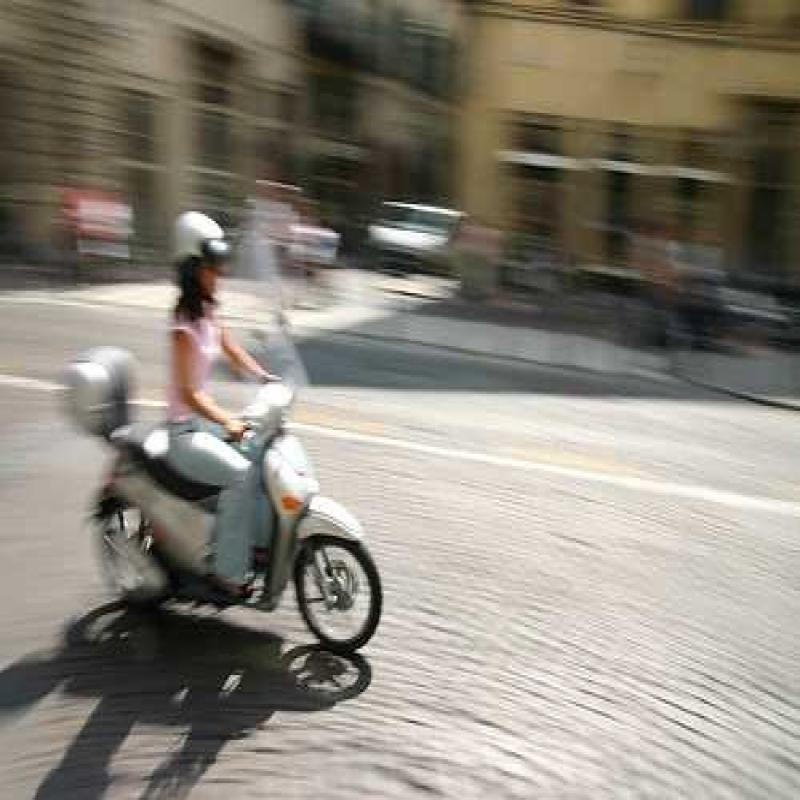bike: (88, 364, 391, 644)
